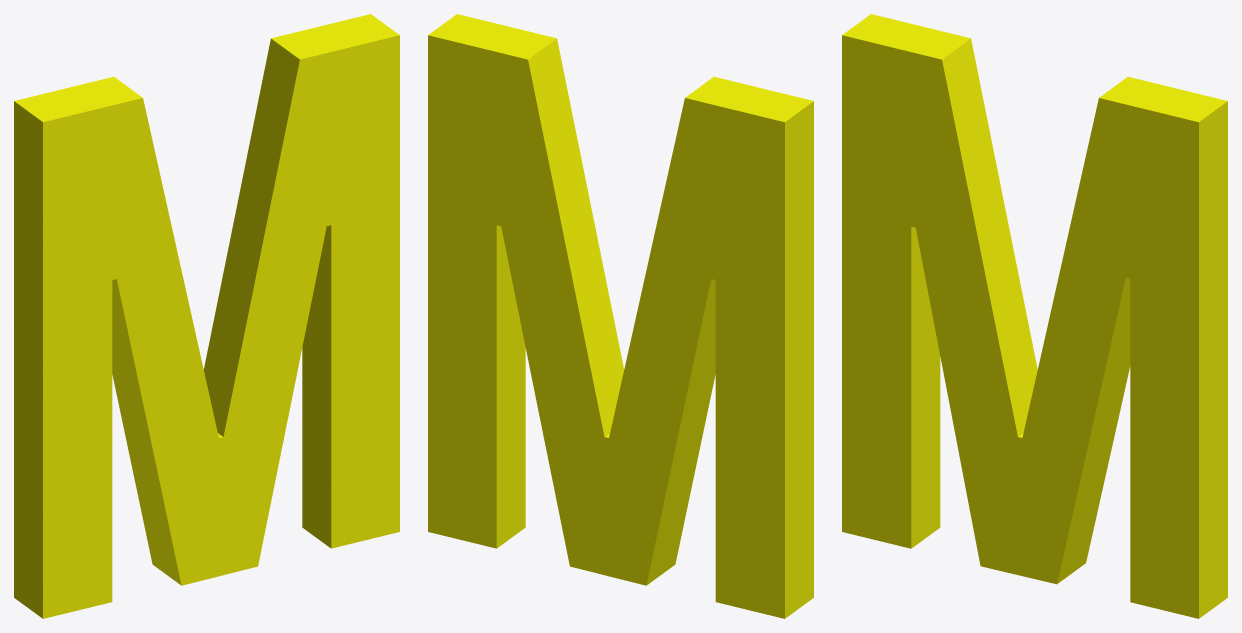
3 renders of one model, left to right at view 1: azimuth 30°, elevation 25°; view 2: azimuth 150°, elevation 25°; view 3: azimuth 330°, elevation 25°, orthographic.
Parts seen in each view (by area): view 1: Text007; view 2: Text007; view 3: Text007.
Part boxes in pixels (bbox=[...]): Text007: bbox=[14, 14, 399, 618]; Text007: bbox=[428, 14, 813, 618]; Text007: bbox=[842, 14, 1227, 618].
Size of the model in its own units: 213 by 284 by 30.
